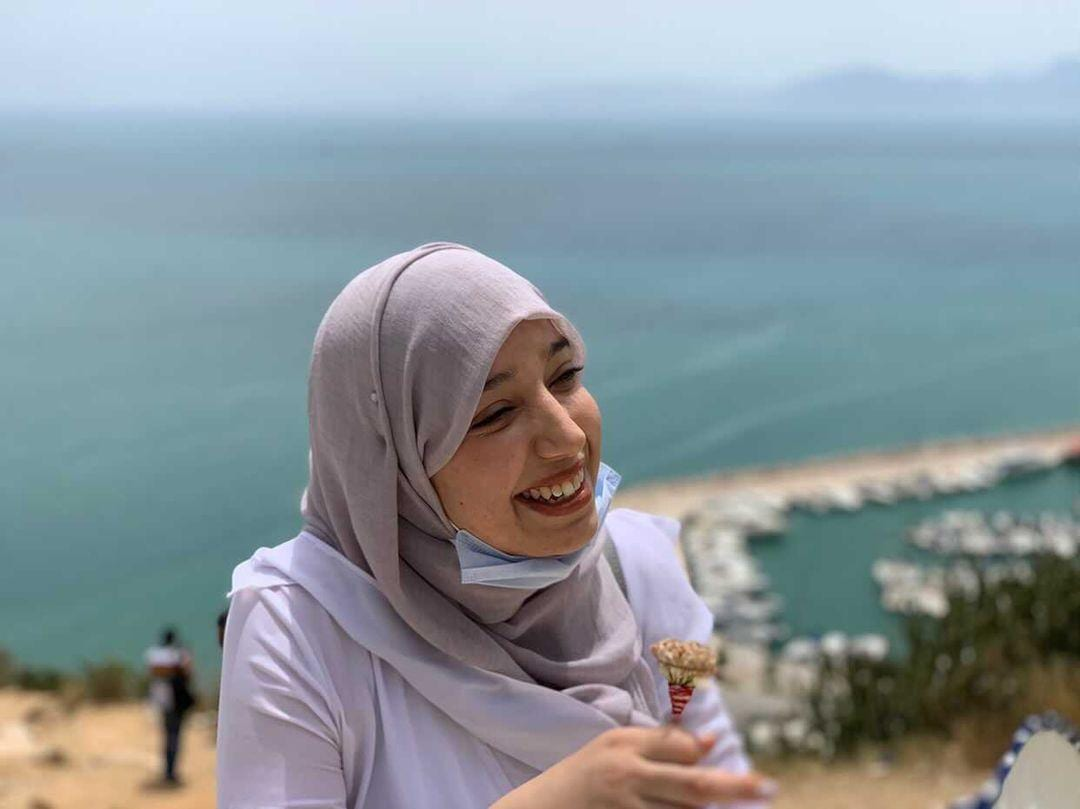mask_weared_incorrect: (459, 338, 648, 584)
